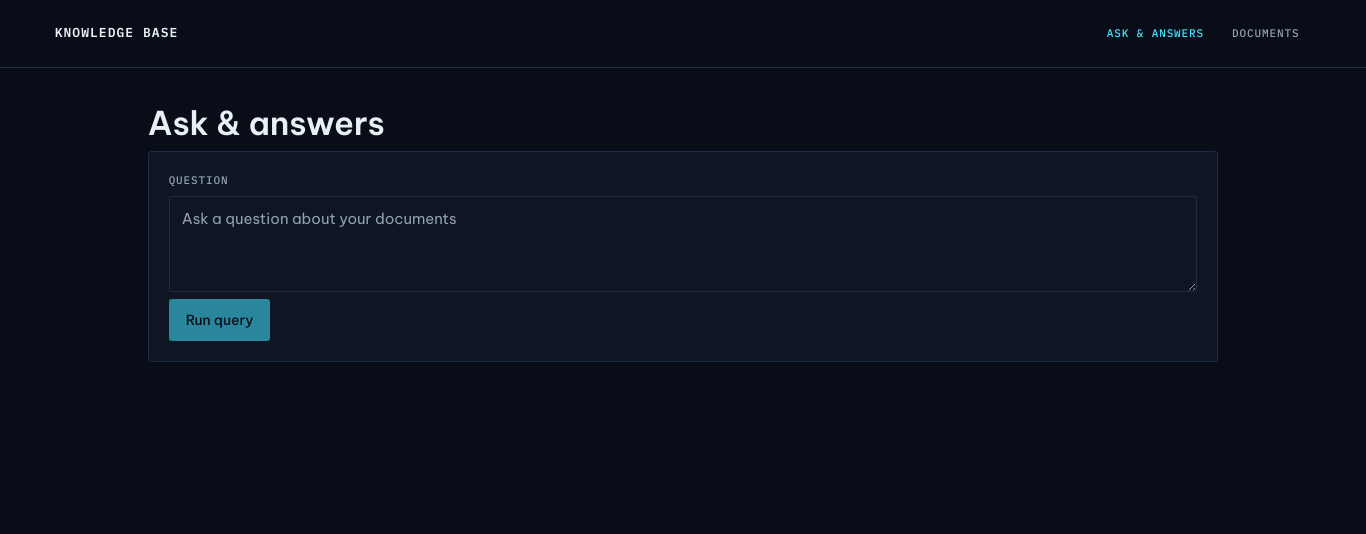
App — delete a document › clicking trash sends DELETE /api/documents/{id} and removes the row
Click the link "Documents" at (1266, 33), box [1232, 26, 1299, 40]
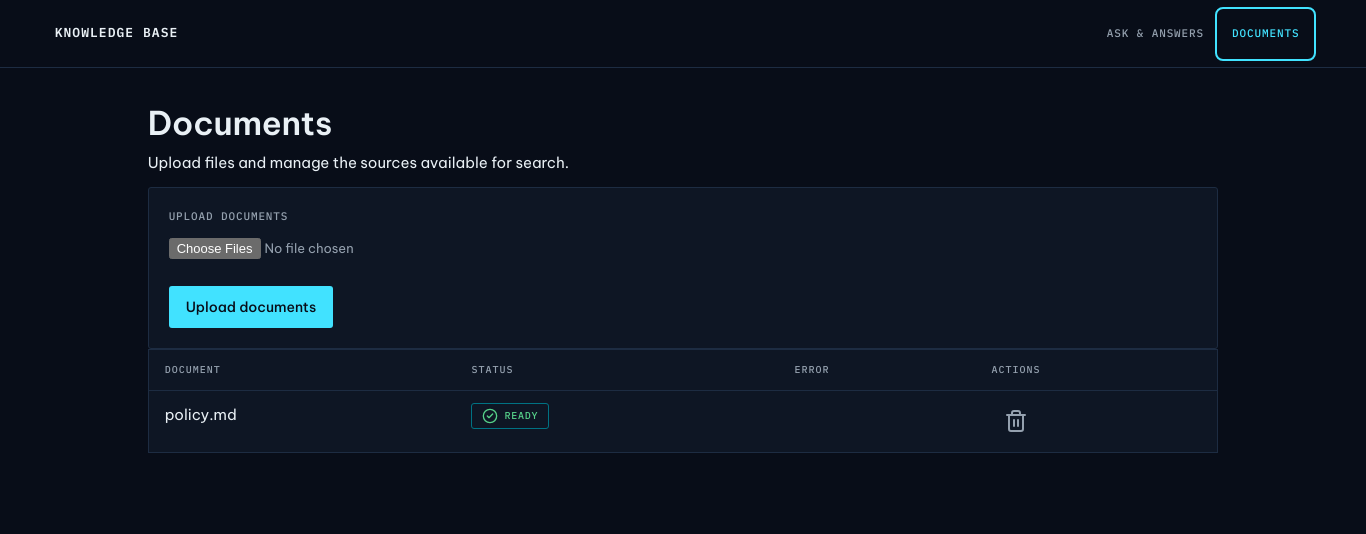
Click the button named "delete policy.md" at (1016, 421), box [992, 403, 1042, 439]
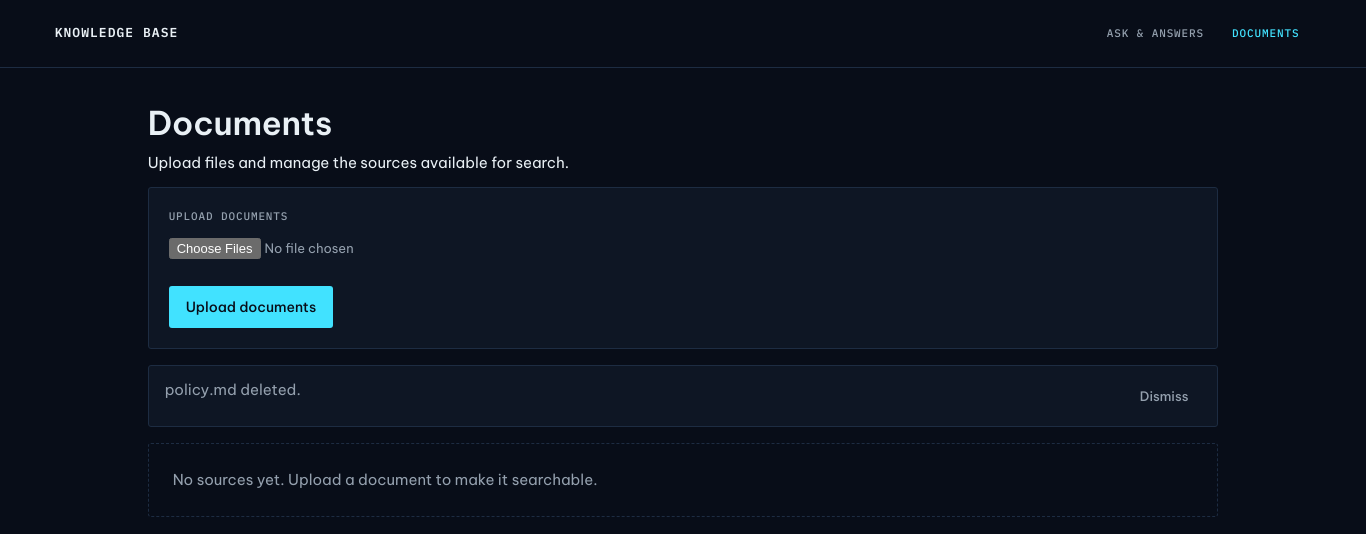
Now the text "policy.md deleted." is shown, box [165, 380, 301, 399]
